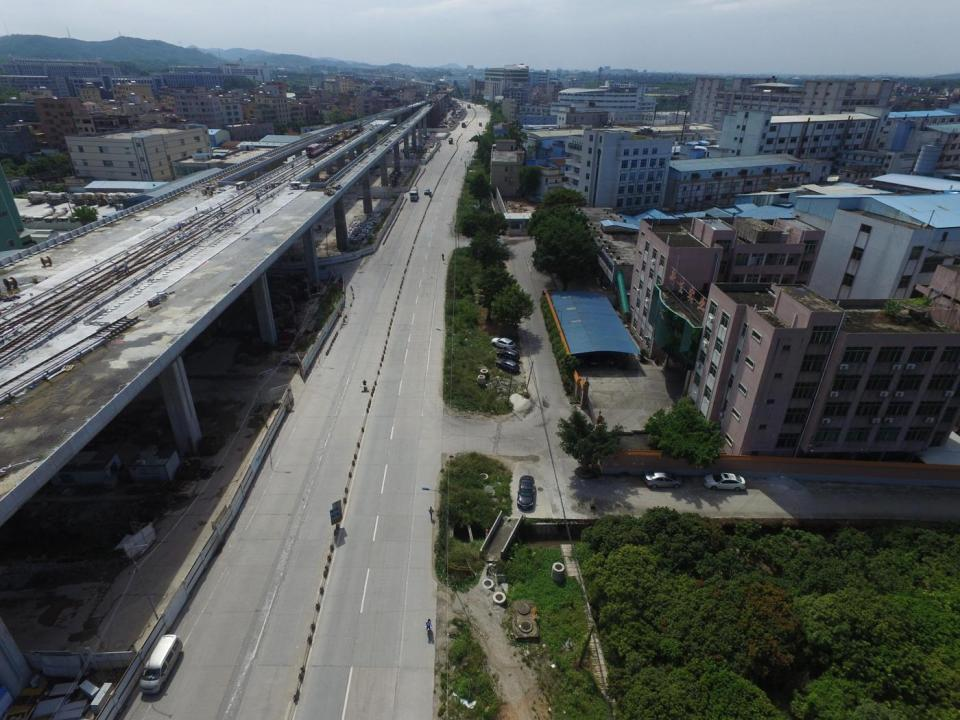car: (704, 472, 746, 491), (644, 471, 683, 489), (518, 475, 535, 510), (496, 358, 520, 374), (581, 346, 600, 366), (496, 348, 520, 362), (600, 346, 616, 367), (491, 338, 515, 351), (570, 343, 582, 367), (424, 189, 429, 195)
truck: (449, 136, 452, 144)
van: (141, 633, 181, 695)
